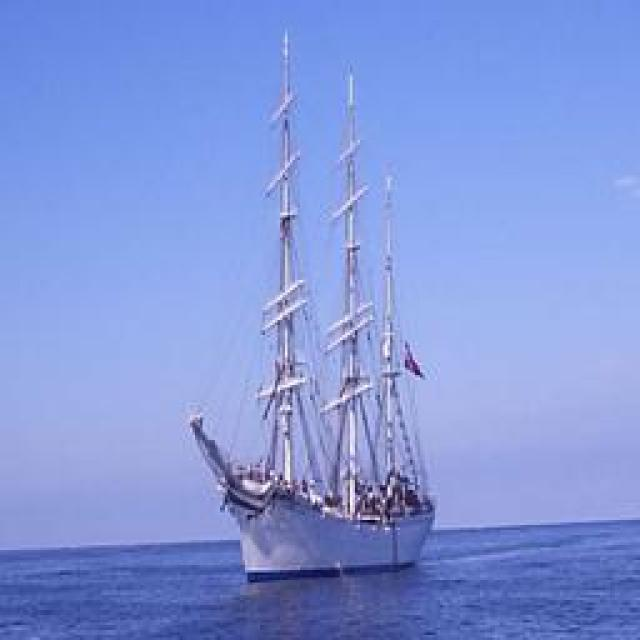ship2: (189, 37, 437, 585)
